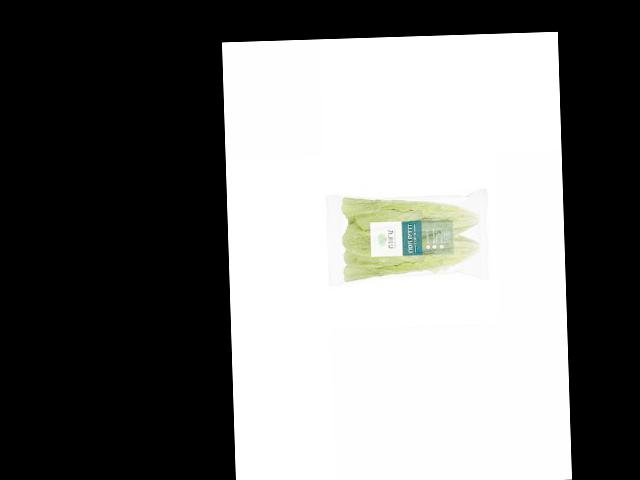lettuce: (338, 248, 479, 336)
